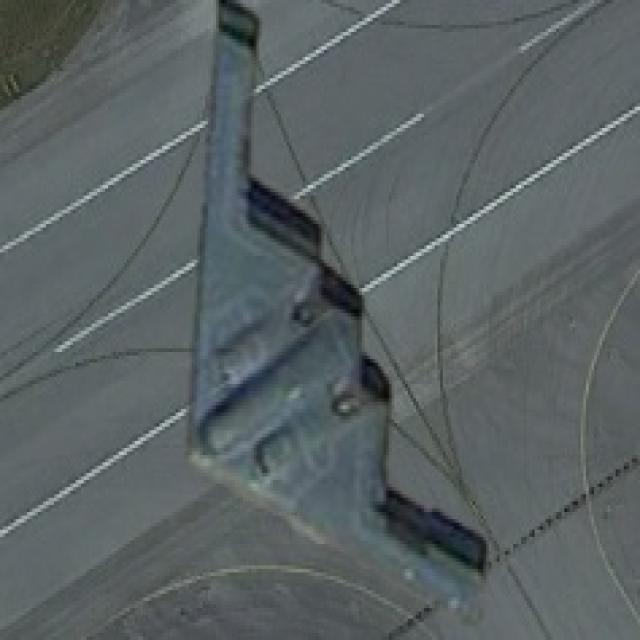B-2_TopDown: (0, 0, 637, 636), (173, 0, 491, 615)
